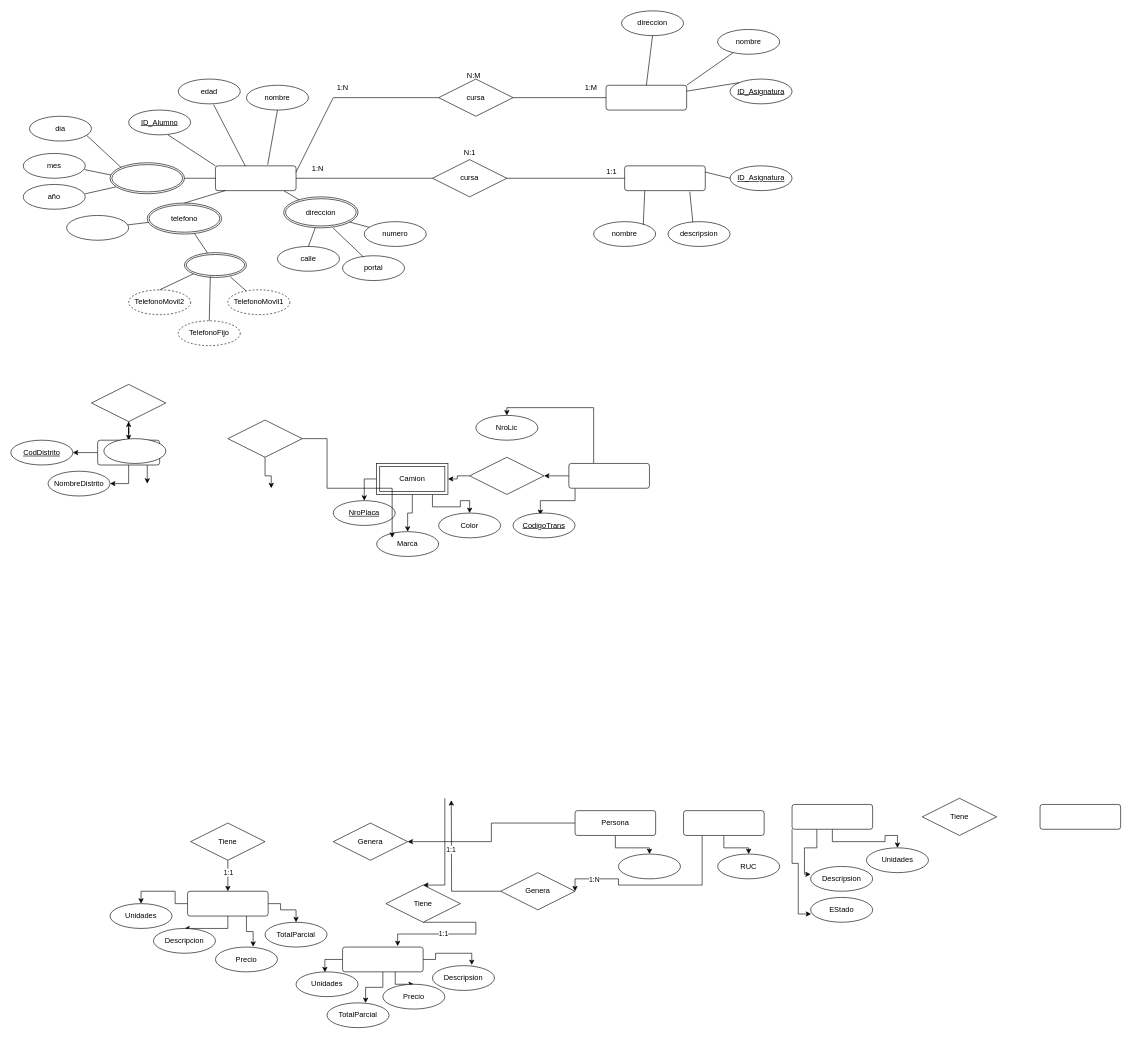
Image size: 1132x1039. Some labels were removed from this diagram. Each missing label, with the centre of its shape:
"Alumno" goes at (x=255, y=178).
"Asignatura" goes at (x=646, y=97).
"CodigoPostal" goes at (x=134, y=450).
"Curso" goes at (x=664, y=178).
"DetalleBoleta" goes at (x=227, y=903).
"DetalleFactura" goes at (x=382, y=959).
"DetalleGuiaRecepcion" goes at (x=832, y=816).
"DNI" goes at (x=649, y=866).
"Empresa" goes at (x=723, y=822).
"familiar" goes at (x=215, y=264).
"fecha de nacimiento" goes at (x=146, y=178).
"GuiaRecepcion" goes at (x=1080, y=816).
"Pertenece" goes at (x=506, y=475).
"Posee" goes at (x=128, y=403).
"propio" goes at (x=97, y=227).
"Registra" goes at (x=264, y=438).
"Transportista" goes at (x=608, y=475).
